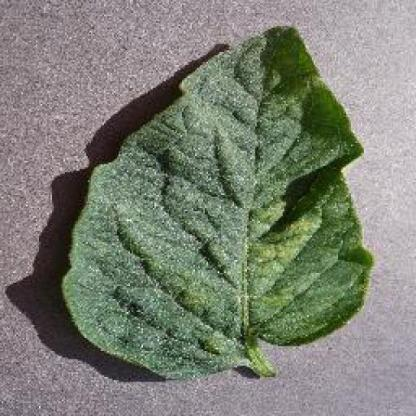Tomato_Spider_Mites: (63, 26, 372, 374)
